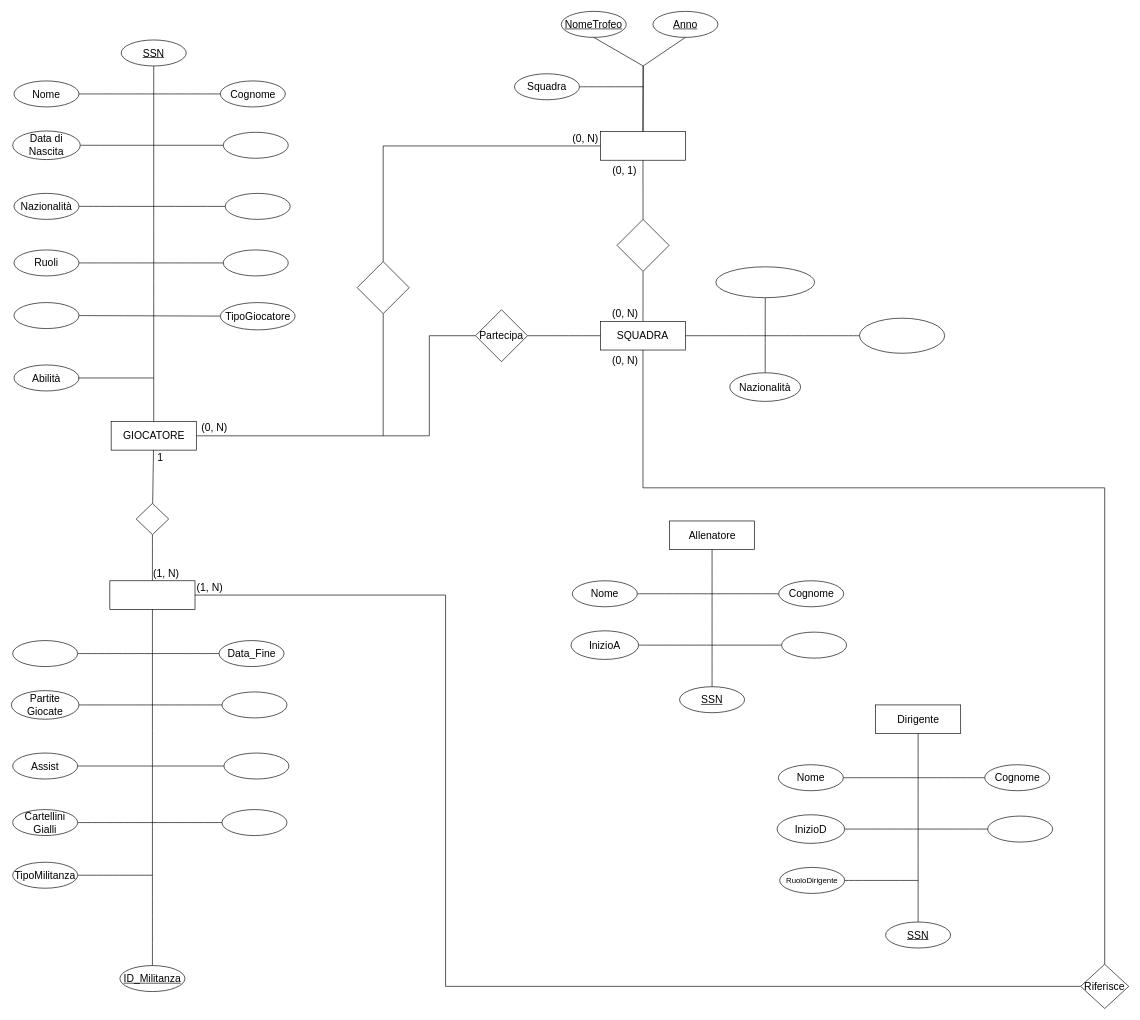
The diagram is 1140 pixels wide and 1020 high, and some of its shapes have lost their labels. Each missing label, with the centre of its shape:
Altezza: the point at 257,206
Cartellini Rossi: the point at 254,822
Data_Fondazione: the point at 765,282
Data_Inizio: the point at 45,653
FineA: the point at 814,644
FineD: the point at 1020,828
Goal Segnati: the point at 254,704
Goal Subiti: the point at 256,765
Ha: the point at 152,519
MILITANZA: the point at 152,594
NomeSquadra: the point at 902,335
Ottenere: the point at 642,245
Peso: the point at 255,262
Piede: the point at 255,145
Ritirato: the point at 46,315
TROFEO: the point at 643,145
Vincere: the point at 383,287
